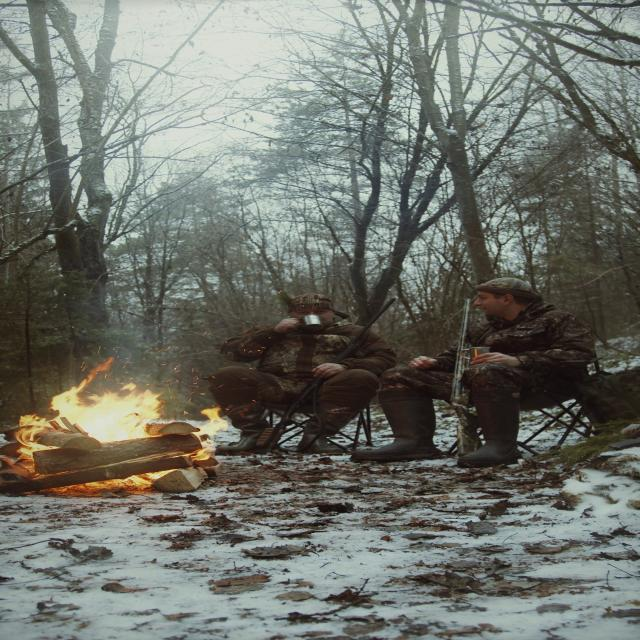Fire: (2, 358, 242, 482)
